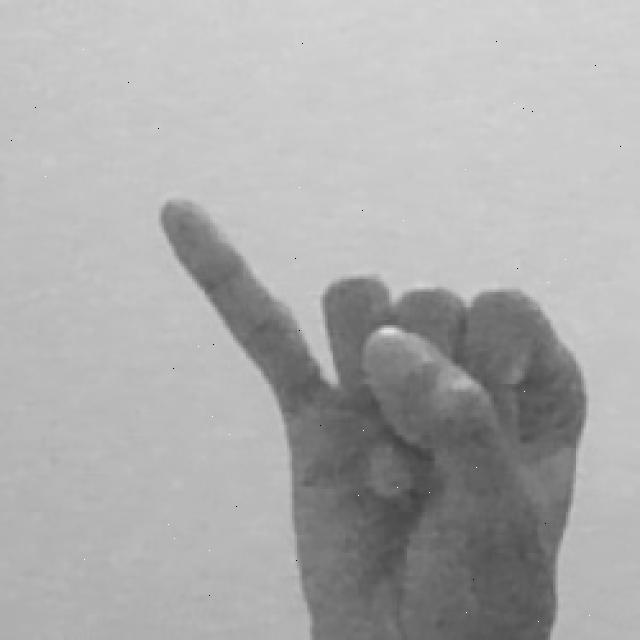I: (154, 192, 604, 640)
